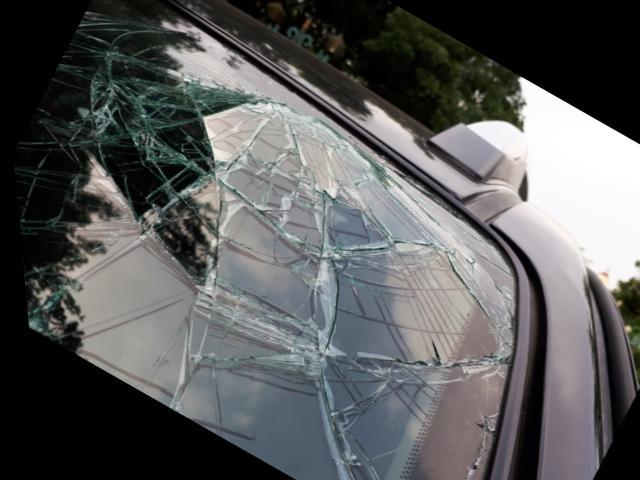glass shatter: (11, 0, 511, 480)
